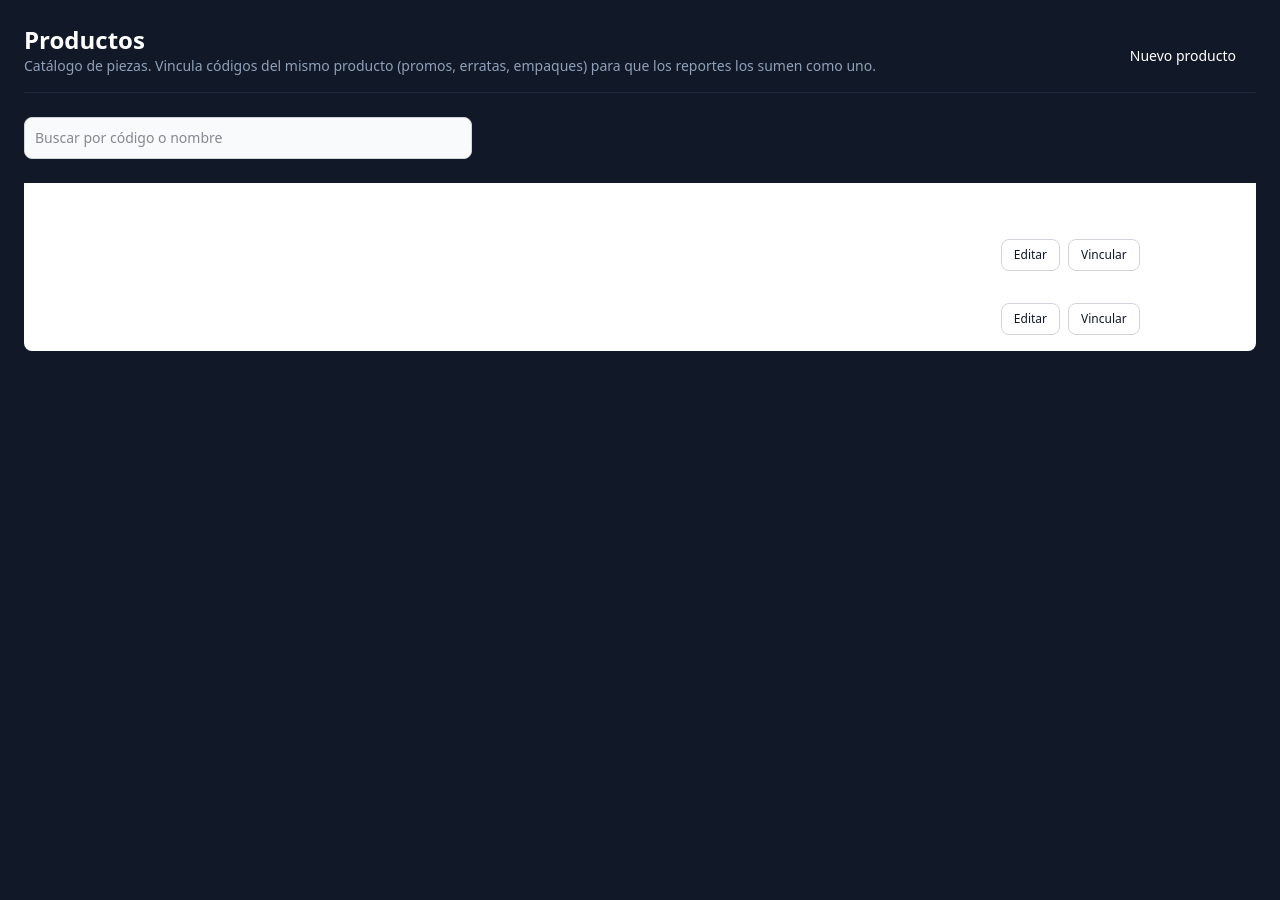
Scenario: ProductsPage › shows the server message when the barcode already exists
Click the button "Nuevo producto": point(1183, 56) [1110,36,1256,76]
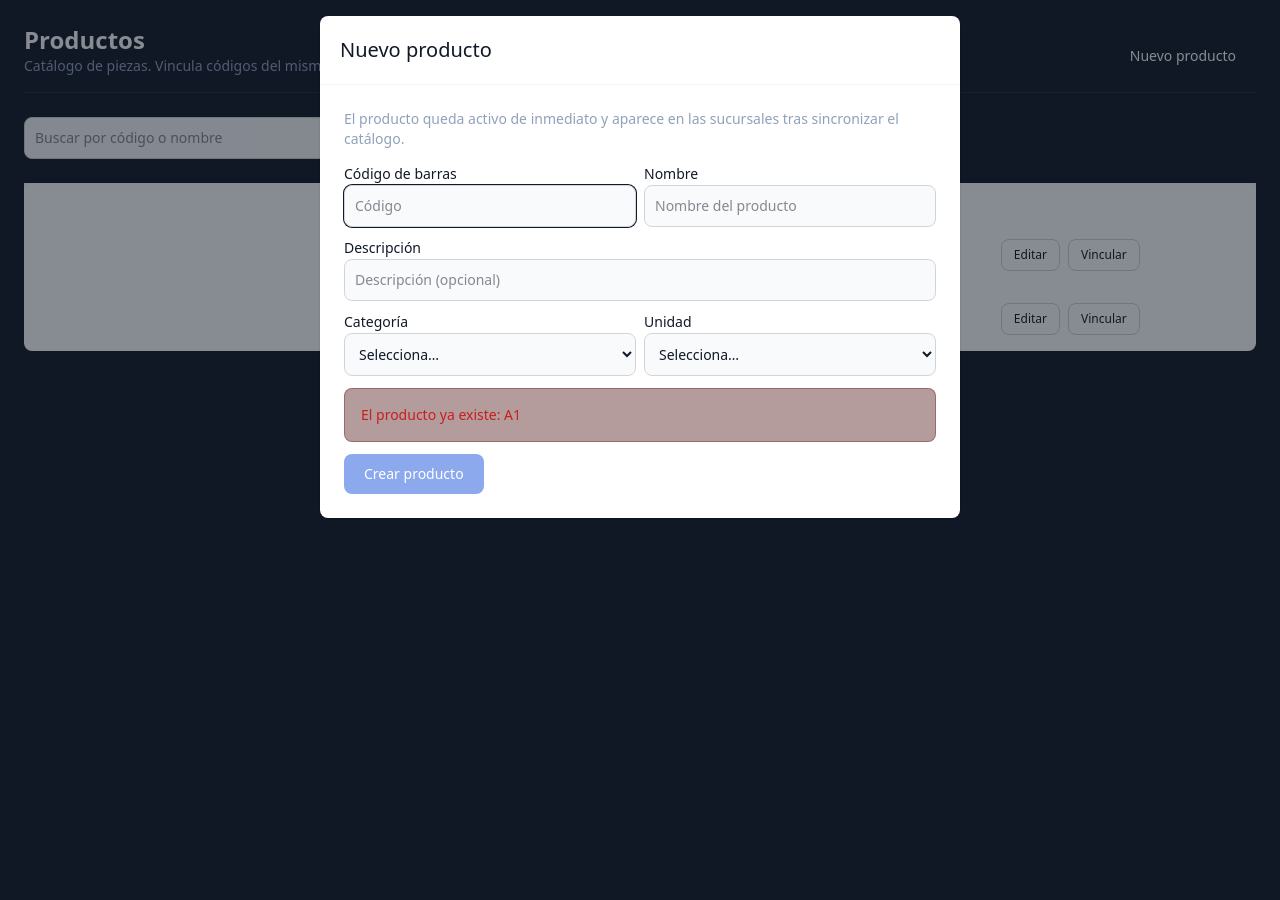
Check: the text "El producto ya existe: A1" is shown, box [361,405,521,425]
